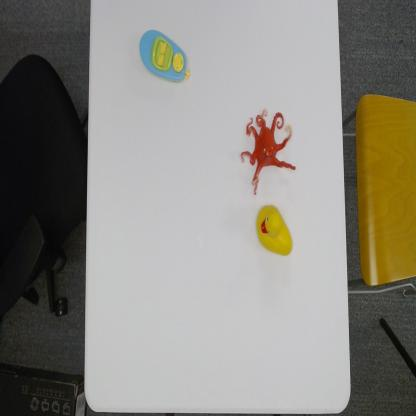Boat: (139, 28, 191, 84)
Duck: (255, 202, 294, 257)
Octopus: (239, 107, 297, 195)
